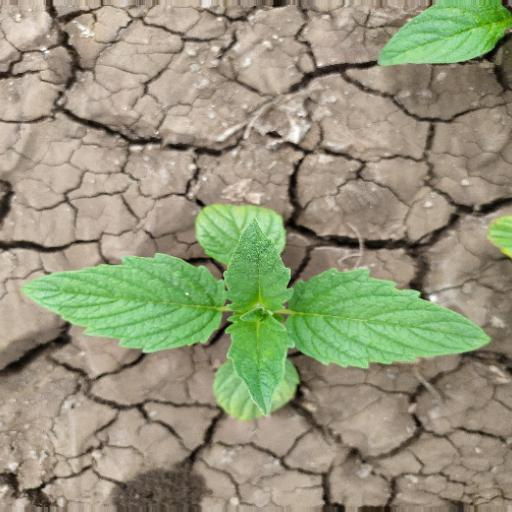crop: (16, 201, 497, 423)
